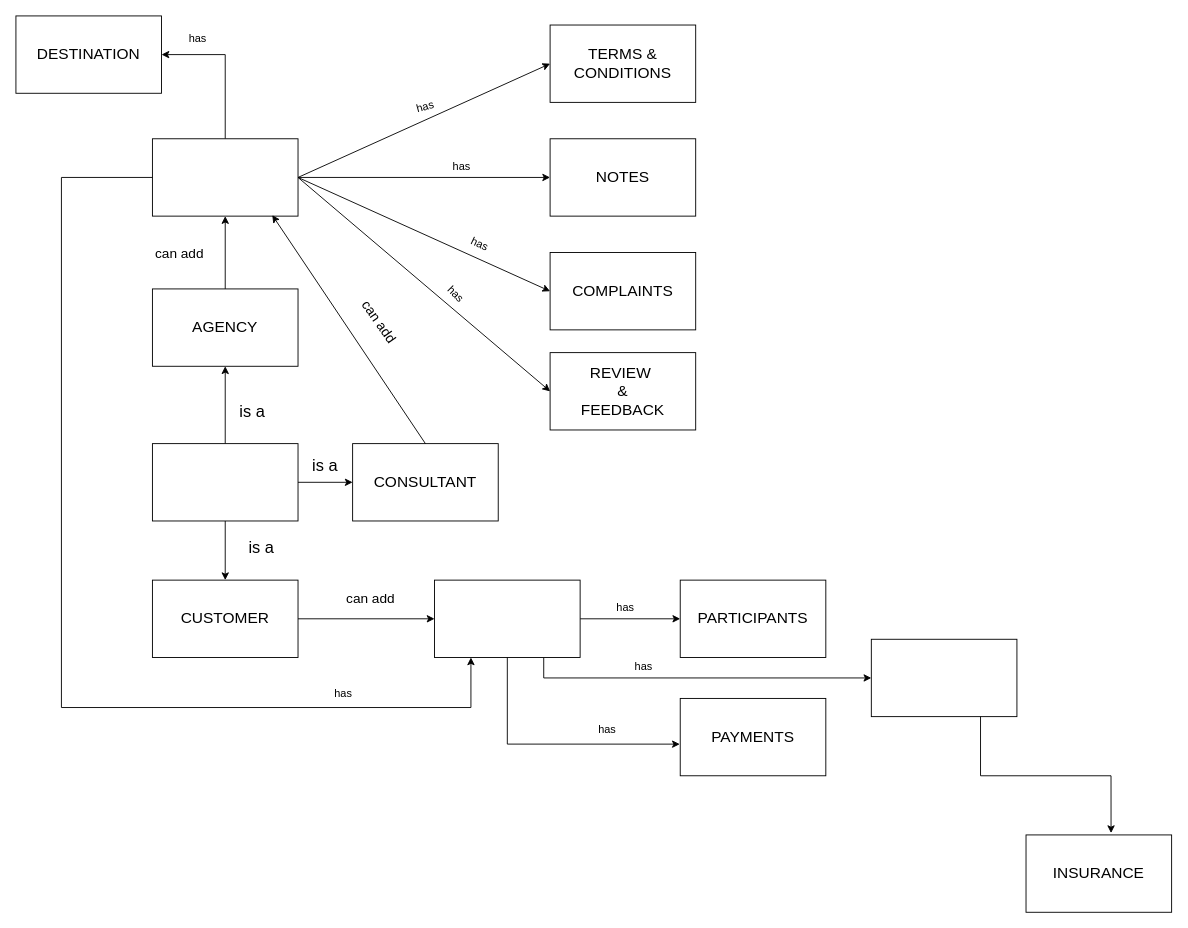
This 1188x928 diagram has some shape labels left out. The shapes that lost their labels are listed below. From the top down, each one's centre as x and y in pixels, then its label:
point 225,177: TOUR
point 225,482: SYSTEM USER
point 507,618: TOUR BOOKING
point 943,677: TICKET
